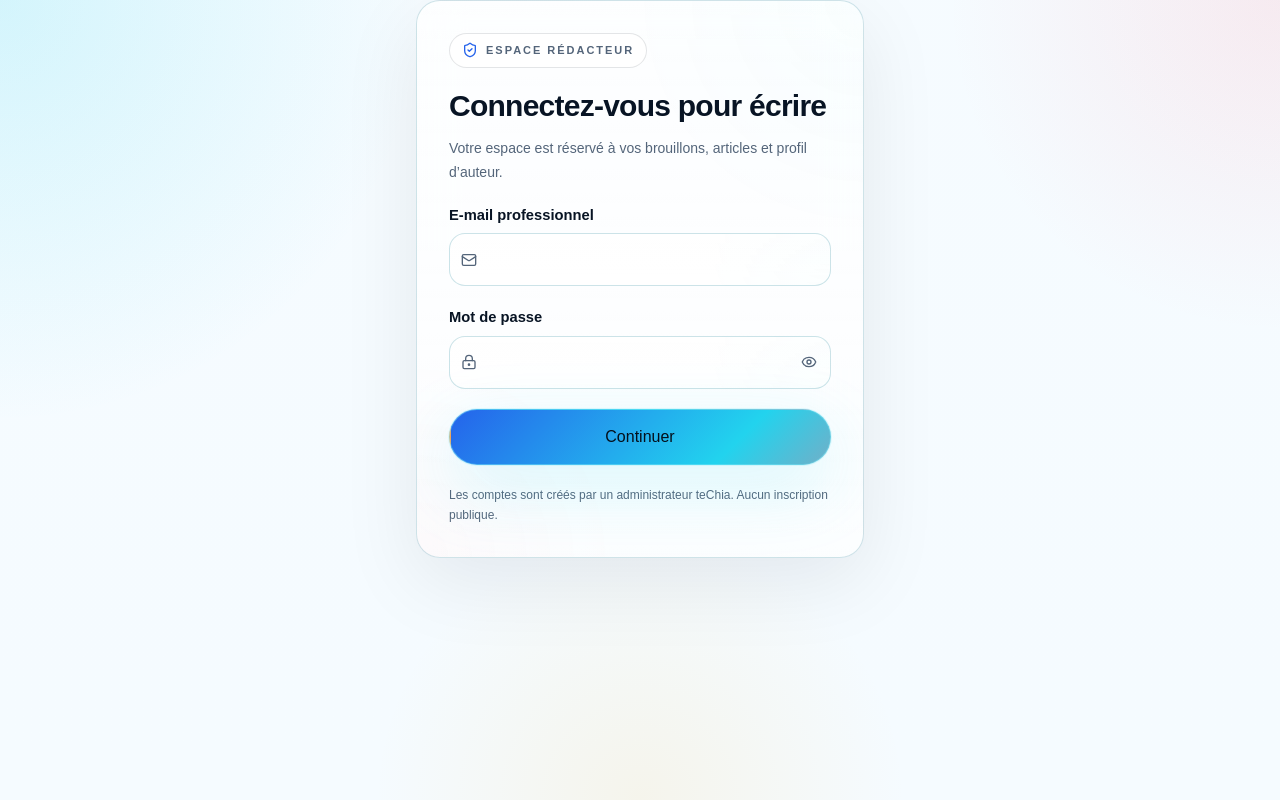
it: login forms share the password toggle › translates the writer toggle into French
This screenshot has width=1280, height=800.
Click the button named "Afficher le mot de passe" at (809, 362), box [787,336,831,389]
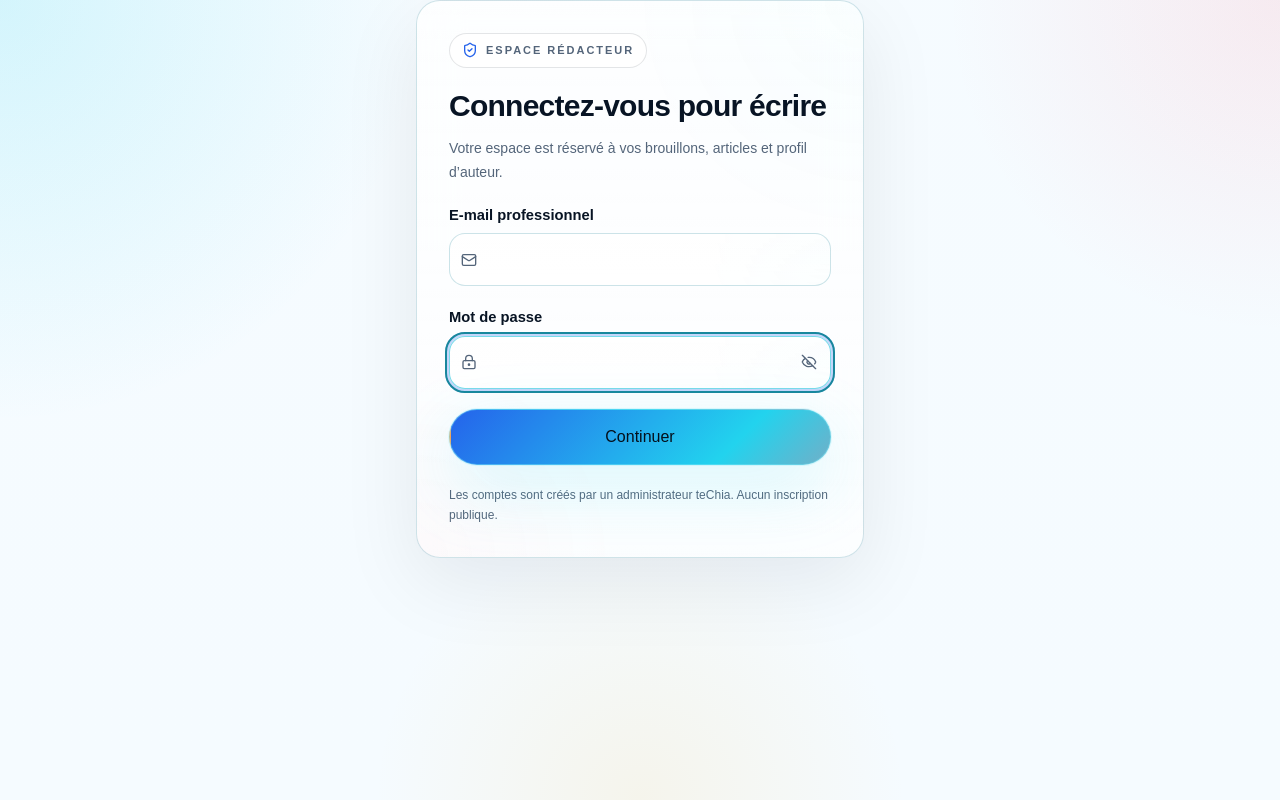
expect the button named "Masquer le mot de passe" is shown: met, box [787,336,831,389]
